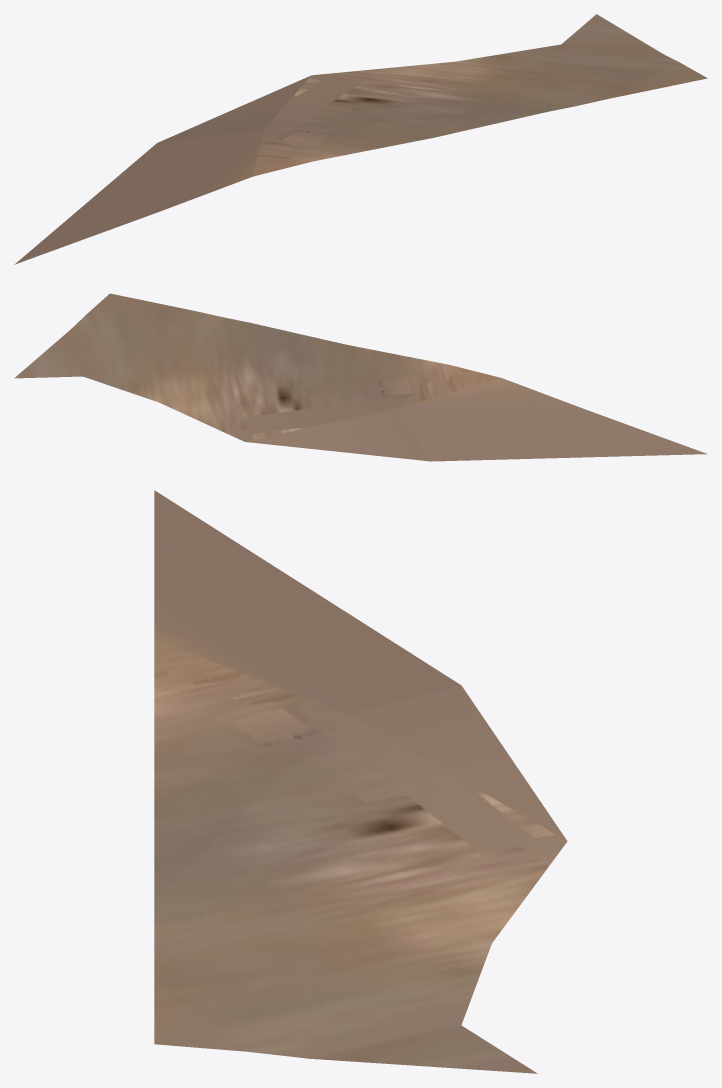
3 renders of one model, top to bottom at view 1: azimuth 30°, elevation 25°; view 2: azimuth 150°, elevation 25°; view 3: azimuth 270°, elevation 25°, orthographic. The views are drawn at different scales.
Bounding box in the file's own units: 2.05 × 0.0862 × 0.6145.
Materials: 1 (1 with a texture image).
